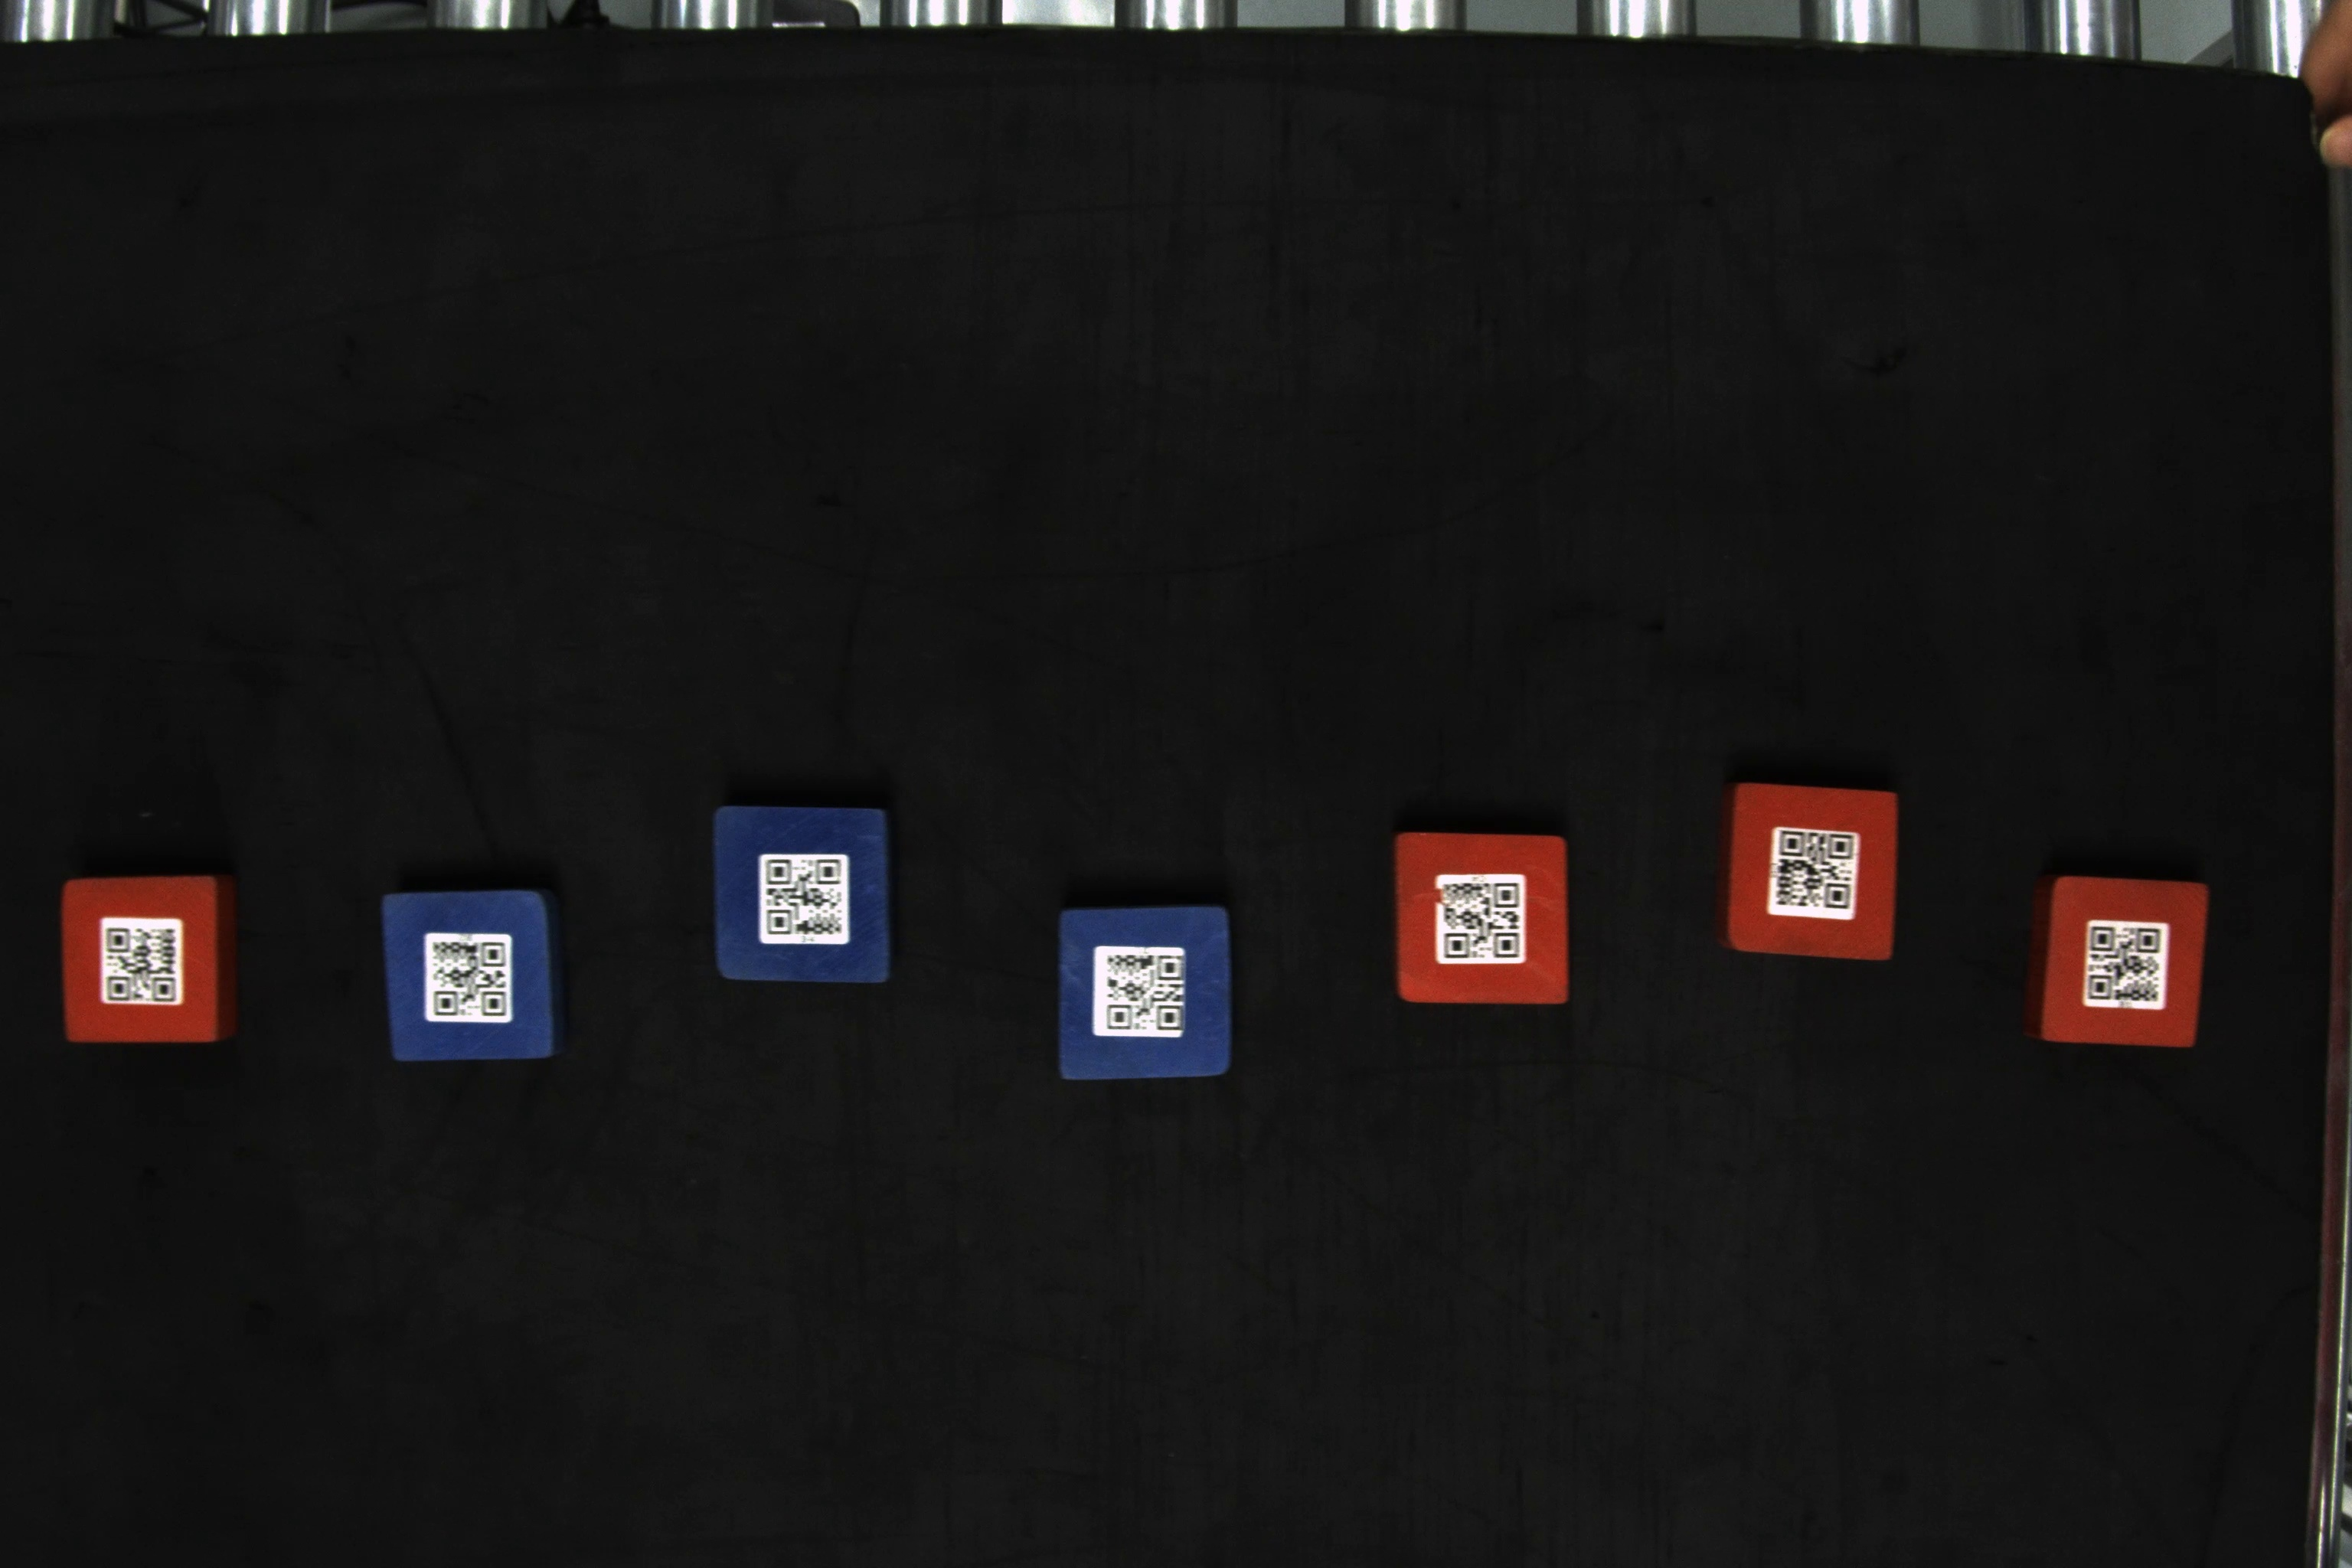wood: (707, 791, 899, 994), (1717, 772, 1911, 964), (373, 884, 572, 1071), (2028, 864, 2217, 1055), (1050, 901, 1242, 1087), (1388, 826, 1577, 1011), (59, 877, 238, 1046)
